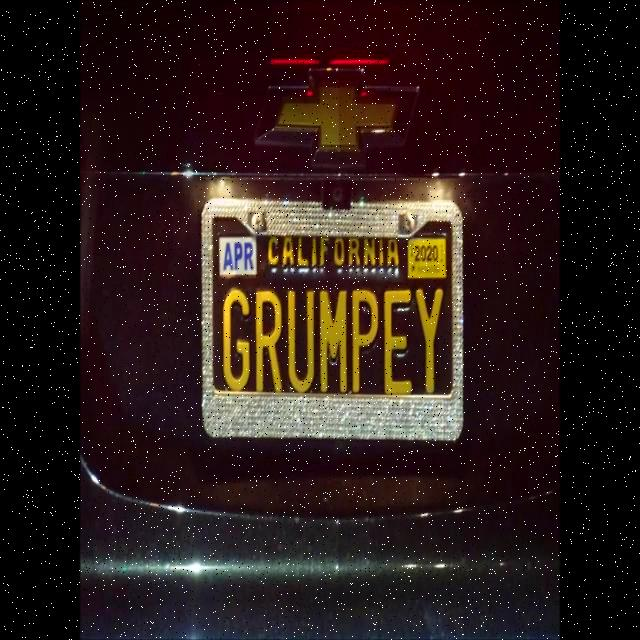licenseplate: (192, 180, 477, 470)
